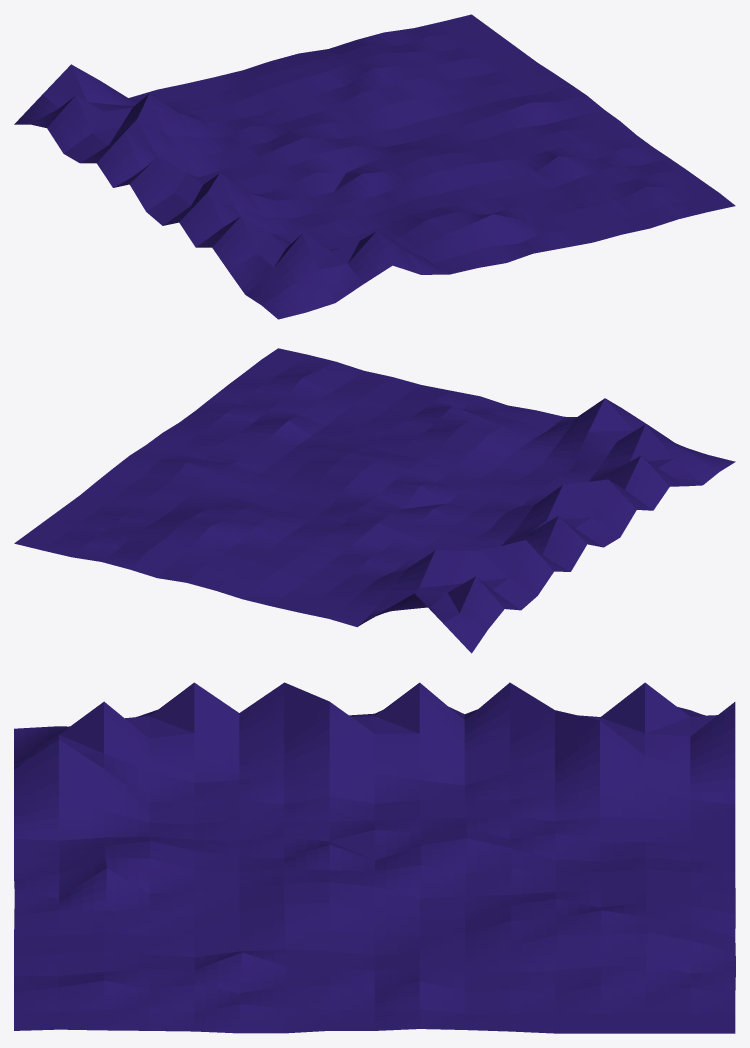
Rendered from Land color.fbx.
3 renders of one model, top to bottom at view 1: azimuth 30°, elevation 25°; view 2: azimuth 150°, elevation 25°; view 3: azimuth 270°, elevation 25°, orthographic. The views are drawn at different scales.
Parts seen in each view (by area): view 1: 평면; view 2: 평면; view 3: 평면.
Part boxes in pixels (bbox=[...]): 평면: bbox=[14, 14, 735, 319]; 평면: bbox=[14, 348, 735, 653]; 평면: bbox=[14, 682, 735, 1033].
Size of the model in its own units: 20000 by 1999 by 20019.
